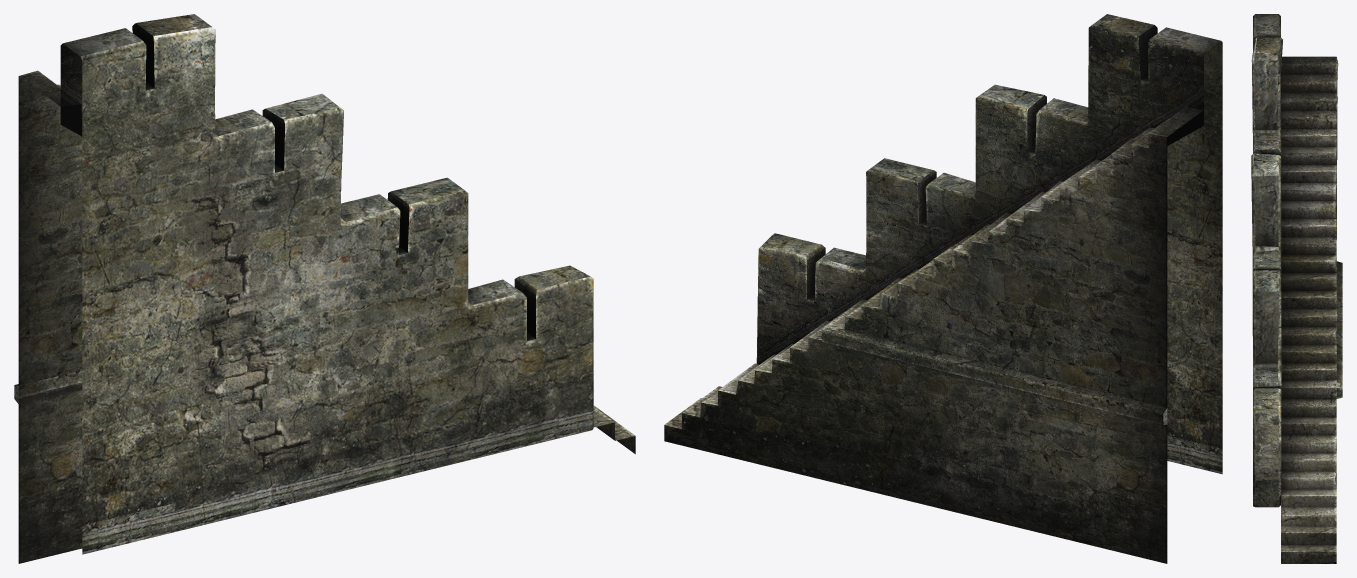
Rendered from bridge_03_stairs.fbx.
3 renders of one model, left to right at view 1: azimuth 30°, elevation 25°; view 2: azimuth 150°, elevation 25°; view 3: azimuth 270°, elevation 25°, orthographic. The views are drawn at different scales.
Visible parts, largest first — view 1: Mesh Object; view 2: Mesh Object; view 3: Mesh Object.
Boxes of the visible parts, left/top/right/bottom form: Mesh Object: left=14, top=14, right=635, bottom=563; Mesh Object: left=664, top=14, right=1222, bottom=563; Mesh Object: left=1251, top=14, right=1342, bottom=563.
Bounding box in the file's own units: 11.54 × 10.62 × 2.4.
